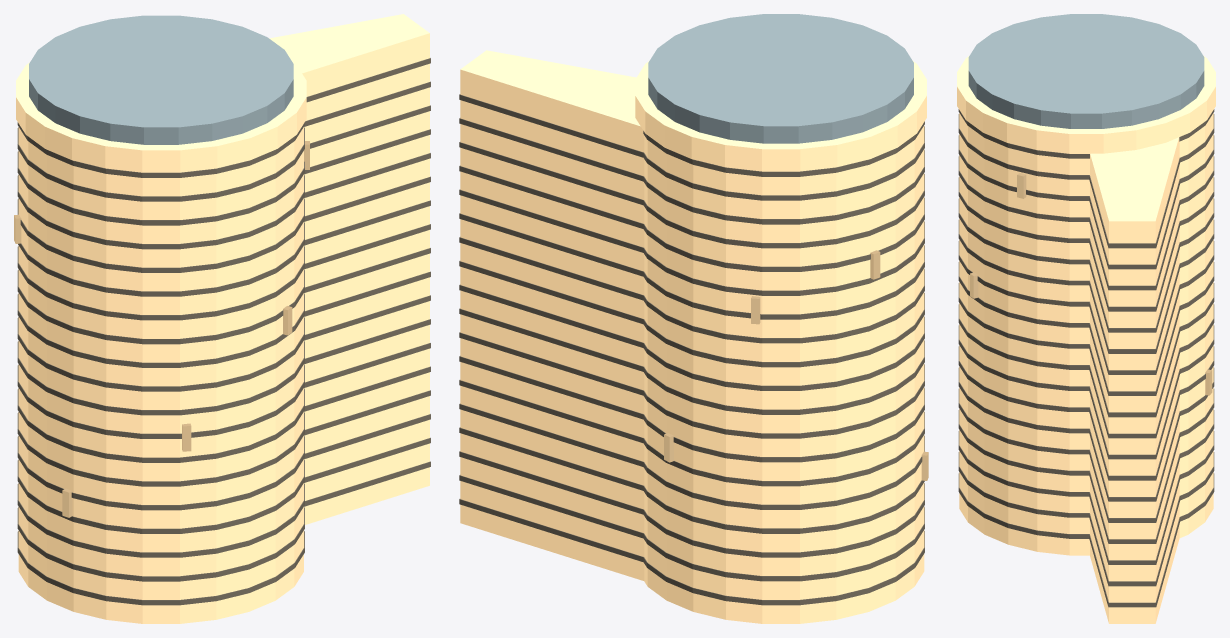
The model's file is bak_maiden_tower.glb.
The picture shows the model from 3 angles, left to right: view 1: azimuth 30°, elevation 25°; view 2: azimuth 150°, elevation 25°; view 3: azimuth 270°, elevation 25°; orthographic projection. The views are drawn at different scales.
Visible parts, largest first — view 1: baku-maiden-tower; view 2: baku-maiden-tower; view 3: baku-maiden-tower.
Boxes of the visible parts, <box> form: baku-maiden-tower: <box>14,14,430,623</box>; baku-maiden-tower: <box>459,14,928,623</box>; baku-maiden-tower: <box>957,14,1215,623</box>.
Bounding box in the file's own units: 26.97 × 31.1 × 16.66.
